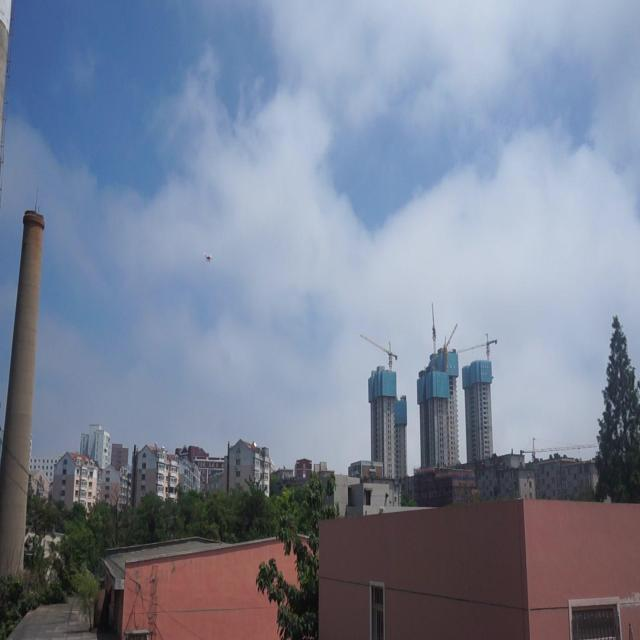drone: (204, 250, 213, 264)
